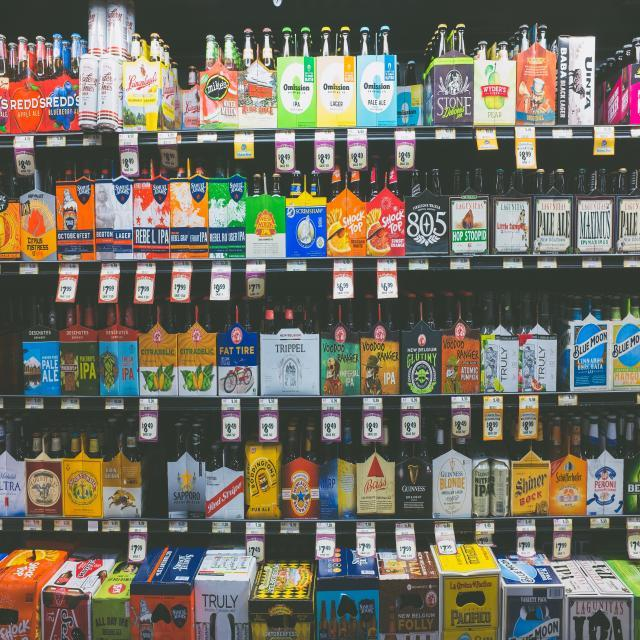Imprecise: (396, 22, 432, 126), (166, 32, 202, 130)
